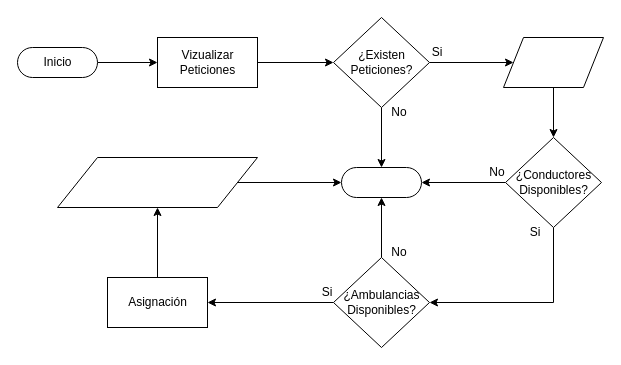
Some shapes in this 621 by 365 pixel diagram are drawn without their labels. The box of each missing label's shape, as (x1, y1, x2, y2) in pixels:
Ambulancia-Conductor Asignada Correctamente: (56, 156, 258, 208)
Fin: (340, 166, 422, 198)
Peticiones Pendientes: (502, 36, 604, 88)
